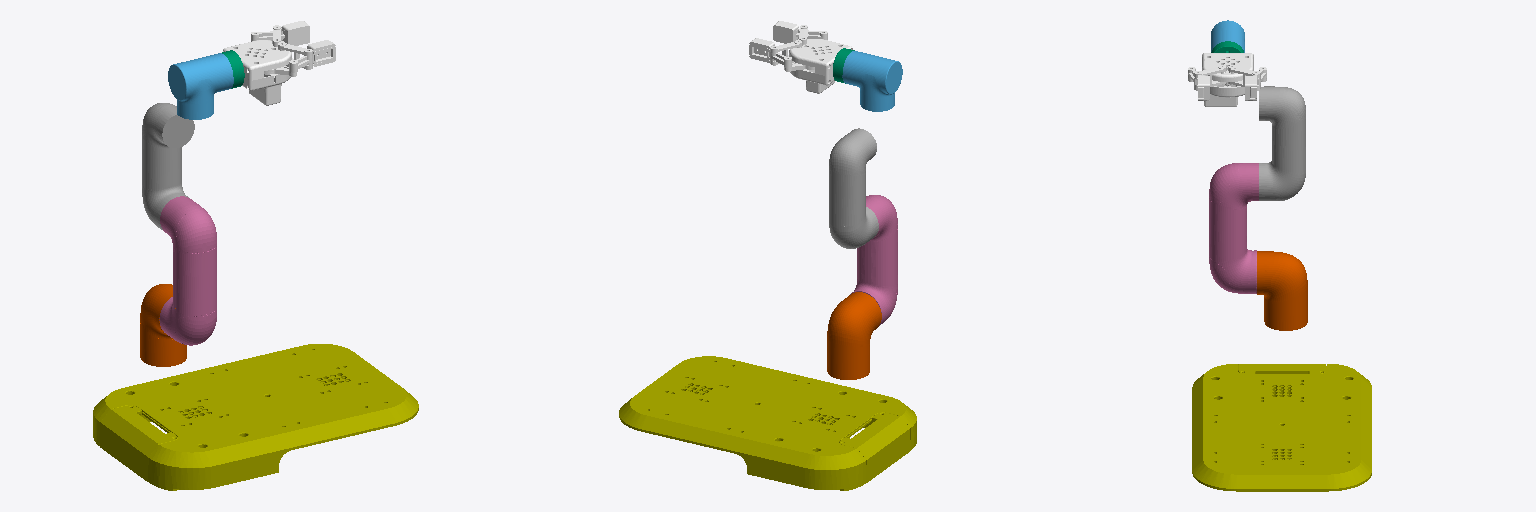
robot.urdf — mycomb1:
<?xml version='1.0' encoding='utf-8'?>
<robot name="mycomb1">
  <link name="base_link">
    <inertial>
      <mass value="0.001" />
      <origin rpy="0 0 0" xyz="0 0 0" />
      <inertia ixx="0.000001" ixy="0" ixz="0" iyy="0.000001" iyz="0" izz="0.000001" />
    </inertial>
  </link>
  <joint name="dummy_joint_copy" type="fixed">
    <origin xyz="0.0 0.0 0.0" rpy="0 0 0" />
    <parent link="base_link" />
    <child link="base_footprint_copy" />
    <axis xyz="0 0 1" />
  </joint>
  <link name="base_footprint_copy">
    <!-- placeholder inertial added by normalize_urdf.py - replace with CAD values -->
    <!-- myAGV placeholder: 1.8 kg like robots/myagv, box inertia for 0.31 x 0.23 x 0.15 m -->
    <inertial>
      <origin xyz="0 0 0" rpy="0 0 0" />
      <mass value="1.8" />
      <inertia ixx="0.0113" ixy="0" ixz="0" iyy="0.0178" iyz="0" izz="0.0224" />
    </inertial>
    <visual>
      <geometry>
        <mesh filename="../../../myagv/meshes/myagv_base.dae" scale="1 1 1" />
      </geometry>
      <origin xyz="0.0 0.0 0.0" rpy="0.0 0.0 0.0" />
      <material name="black">
        <color rgba="0.7 0.7 0.0 1.0" />
      </material>
    </visual>
    <collision>
      <origin xyz="0.0 0.0 0.0" rpy="0.0 0.0 0.0" />
      <geometry>
        <mesh filename="../../../myagv/meshes/myagv_base.dae" scale="1 1 1" />
      </geometry>
    </collision>
  </link>
  <joint name="base_joint_copy" type="fixed">
    <origin xyz="0.0 0.0 0.0" rpy="0 0 0" />
    <parent link="base_footprint_copy" />
    <child link="base_up_copy" />
    <axis xyz="0 0 1" />
  </joint>
  <link name="base_up_copy">
    <!-- placeholder inertial added by normalize_urdf.py - replace with CAD values -->
    <!-- myAGV placeholder: 1.8 kg like robots/myagv, box inertia for 0.31 x 0.23 x 0.15 m -->
    <inertial>
      <origin xyz="0 0 0" rpy="0 0 0" />
      <mass value="1.8" />
      <inertia ixx="0.0113" ixy="0" ixz="0" iyy="0.0178" iyz="0" izz="0.0224" />
    </inertial>
    <visual>
      <geometry>
        <mesh filename="../../../myagv/meshes/myagv_up.dae" scale="1 1 1" />
      </geometry>
      <origin xyz="0.0 0.0 0.0" rpy="0.0 0.0 0.0" />
      <material name="black">
        <color rgba="0.7 0.7 0.0 1.0" />
      </material>
    </visual>
    <collision>
      <origin xyz="0.0 0.0 0.0" rpy="0.0 0.0 0.0" />
      <geometry>
        <mesh filename="../../../myagv/meshes/myagv_up.dae" scale="1 1 1" />
      </geometry>
    </collision>
  </link>
  <joint name="base_to_g_base_copy" type="fixed">
    <axis xyz="0 0 0" />
    <limit effort="1000.0" lower="-3.14" upper="3.14159" velocity="0" />
    <parent link="base_up_copy" />
    <child link="g_base_copy" />
    <origin xyz="-0.1 0 0.13" rpy="0 0 0" />
  </joint>
  <link name="g_base_copy">
    <!-- placeholder inertial added by normalize_urdf.py - replace with CAD values -->
    <inertial>
      <origin xyz="0 0 0" rpy="0 0 0" />
      <mass value="0.1" />
      <inertia ixx="3.600e-05" ixy="0" ixz="0" iyy="3.600e-05" iyz="0" izz="3.600e-05" />
    </inertial>
    <visual>
      <geometry>
        <mesh filename="../../../mycobot_280_pi/meshes/G_base.dae" />
      </geometry>
      <origin xyz="0.0 0 -0.03" rpy="0 0 1.5708" />
    </visual>
    <collision>
      <geometry>
        <mesh filename="../../../mycobot_280_pi/meshes/G_base.dae" />
      </geometry>
      <origin xyz="0.0 0 -0.03" rpy="0 0 1.5708" />
    </collision>
  </link>
  <link name="joint1_copy">
    <!-- placeholder inertial added by normalize_urdf.py - replace with CAD values -->
    <inertial>
      <origin xyz="0 0 0" rpy="0 0 0" />
      <mass value="0.1" />
      <inertia ixx="3.600e-05" ixy="0" ixz="0" iyy="3.600e-05" iyz="0" izz="3.600e-05" />
    </inertial>
    <visual>
      <geometry>
        <!--- 0.0 0 -0.04  1.5708 3.14159-->
        <mesh filename="../../../mycobot_280_pi/meshes/joint1_pi.dae" />
      </geometry>
      <origin xyz="0.0 0 0 " rpy=" 0 0 -1.5708" />
    </visual>
    <collision>
      <geometry>
        <!--- 0.0 0 -0.04  1.5708 3.14159-->
        <mesh filename="../../../mycobot_280_pi/meshes/joint1_pi.dae" />
      </geometry>
      <origin xyz="0.0 0 0 " rpy=" 0 0 -1.5708" />
    </collision>
  </link>
  <link name="joint2_copy">
    <!-- placeholder inertial added by normalize_urdf.py - replace with CAD values -->
    <inertial>
      <origin xyz="0 0 0" rpy="0 0 0" />
      <mass value="0.1" />
      <inertia ixx="3.600e-05" ixy="0" ixz="0" iyy="3.600e-05" iyz="0" izz="3.600e-05" />
    </inertial>
    <visual>
      <geometry>
        <mesh filename="../../../mycobot_280_pi/meshes/joint2.dae" />
      </geometry>
      <origin xyz="0.0 0 -0.06096 " rpy=" 0 0 -1.5708" />
    </visual>
    <collision>
      <geometry>
        <mesh filename="../../../mycobot_280_pi/meshes/joint2.dae" />
      </geometry>
      <origin xyz="0.0 0 -0.06096 " rpy=" 0 0 -1.5708" />
    </collision>
  </link>
  <link name="joint3_copy">
    <!-- placeholder inertial added by normalize_urdf.py - replace with CAD values -->
    <inertial>
      <origin xyz="0 0 0" rpy="0 0 0" />
      <mass value="0.1" />
      <inertia ixx="3.600e-05" ixy="0" ixz="0" iyy="3.600e-05" iyz="0" izz="3.600e-05" />
    </inertial>
    <visual>
      <geometry>
        <mesh filename="../../../mycobot_280_pi/meshes/joint3.dae" />
      </geometry>
      <origin xyz="0.0 0 0.03256 " rpy=" 0 -1.5708 0" />
    </visual>
    <collision>
      <geometry>
        <mesh filename="../../../mycobot_280_pi/meshes/joint3.dae" />
      </geometry>
      <origin xyz="0.0 0 0.03256 " rpy=" 0 -1.5708 0" />
    </collision>
  </link>
  <link name="joint4_copy">
    <!-- placeholder inertial added by normalize_urdf.py - replace with CAD values -->
    <inertial>
      <origin xyz="0 0 0" rpy="0 0 0" />
      <mass value="0.1" />
      <inertia ixx="3.600e-05" ixy="0" ixz="0" iyy="3.600e-05" iyz="0" izz="3.600e-05" />
    </inertial>
    <visual>
      <geometry>
        <!--- 0.0 0 -0.04 -->
        <mesh filename="../../../mycobot_280_pi/meshes/joint4.dae" />
      </geometry>
      <origin xyz="0.0 0 0.03056 " rpy=" 0 -1.5708 0" />
    </visual>
    <collision>
      <geometry>
        <!--- 0.0 0 -0.04 -->
        <mesh filename="../../../mycobot_280_pi/meshes/joint4.dae" />
      </geometry>
      <origin xyz="0.0 0 0.03056 " rpy=" 0 -1.5708 0" />
    </collision>
  </link>
  <link name="joint5_copy">
    <!-- placeholder inertial added by normalize_urdf.py - replace with CAD values -->
    <inertial>
      <origin xyz="0 0 0" rpy="0 0 0" />
      <mass value="0.1" />
      <inertia ixx="3.600e-05" ixy="0" ixz="0" iyy="3.600e-05" iyz="0" izz="3.600e-05" />
    </inertial>
    <visual>
      <geometry>
        <!--- 0.0 0 -0.04 -->
        <mesh filename="../../../mycobot_280_pi/meshes/joint5.dae" />
      </geometry>
      <origin xyz="0.0 0 -0.03356 " rpy=" -1.5708 0 0" />
    </visual>
    <collision>
      <geometry>
        <!--- 0.0 0 -0.04 -->
        <mesh filename="../../../mycobot_280_pi/meshes/joint5.dae" />
      </geometry>
      <origin xyz="0.0 0 -0.03356 " rpy=" -1.5708 0 0" />
    </collision>
  </link>
  <link name="joint6_copy">
    <!-- placeholder inertial added by normalize_urdf.py - replace with CAD values -->
    <inertial>
      <origin xyz="0 0 0" rpy="0 0 0" />
      <mass value="0.1" />
      <inertia ixx="3.600e-05" ixy="0" ixz="0" iyy="3.600e-05" iyz="0" izz="3.600e-05" />
    </inertial>
    <visual>
      <geometry>
        <!--- 0.0 0 -0.04 -->
        <mesh filename="../../../mycobot_280_pi/meshes/joint6.dae" />
      </geometry>
      <origin xyz="0 0.00 -0.038 " rpy=" 0 0 0" />
    </visual>
    <collision>
      <geometry>
        <!--- 0.0 0 -0.04 -->
        <mesh filename="../../../mycobot_280_pi/meshes/joint6.dae" />
      </geometry>
      <origin xyz="0 0.00 -0.038 " rpy=" 0 0 0" />
    </collision>
  </link>
  <link name="joint6_flange_copy">
    <!-- placeholder inertial added by normalize_urdf.py - replace with CAD values -->
    <inertial>
      <origin xyz="0 0 0" rpy="0 0 0" />
      <mass value="0.1" />
      <inertia ixx="3.600e-05" ixy="0" ixz="0" iyy="3.600e-05" iyz="0" izz="3.600e-05" />
    </inertial>
    <visual>
      <geometry>
        <!--- 0.0 0 -0.04 -->
        <mesh filename="../../../mycobot_280_pi/meshes/joint7.dae" />
      </geometry>
      <origin xyz="0.0 0 -0.012 " rpy=" 0 0 0" />
    </visual>
    <collision>
      <geometry>
        <!--- 0.0 0 -0.04 -->
        <mesh filename="../../../mycobot_280_pi/meshes/joint7.dae" />
      </geometry>
      <origin xyz="0.0 0 -0.012 " rpy=" 0 0 0" />
    </collision>
  </link>
  <link name="gripper_base_copy">
    <!-- placeholder inertial added by normalize_urdf.py - replace with CAD values -->
    <inertial>
      <origin xyz="0 0 0" rpy="0 0 0" />
      <mass value="0.1" />
      <inertia ixx="3.600e-05" ixy="0" ixz="0" iyy="3.600e-05" iyz="0" izz="3.600e-05" />
    </inertial>
    <visual>
      <geometry>
        <mesh filename="../../../mycobot_280_pi/meshes/gripper_base.dae" />
      </geometry>
      <origin xyz="0.0 0.0077 -0.012" rpy=" 0 0 0" />
    </visual>
    <collision>
      <geometry>
        <mesh filename="../../../mycobot_280_pi/meshes/gripper_base.dae" />
      </geometry>
      <origin xyz="0.0 0.0077 -0.012 " rpy=" 0 0 0" />
    </collision>
  </link>
  <link name="gripper_left1_copy">
    <!-- placeholder inertial added by normalize_urdf.py - replace with CAD values -->
    <inertial>
      <origin xyz="0 0 0" rpy="0 0 0" />
      <mass value="0.1" />
      <inertia ixx="3.600e-05" ixy="0" ixz="0" iyy="3.600e-05" iyz="0" izz="3.600e-05" />
    </inertial>
    <visual>
      <geometry>
        <!--- 0.0 0 -0.04 -->
        <mesh filename="../../../mycobot_280_pi/meshes/gripper_left1.dae" />
      </geometry>
      <origin xyz="0.039 -0.0133 -0.012 " rpy=" 0 0 0" />
      <!-- <origin xyz = "0.0 0 -0.012 " rpy = " 0 0 0"/> -->
    </visual>
    <!-- collision origin aligned with visual (was copy-pasted from the mirrored link) -->
    <collision>
      <geometry>
        <mesh filename="../../../mycobot_280_pi/meshes/gripper_left1.dae" />
      </geometry>
      <origin xyz="0.039 -0.0133 -0.012 " rpy=" 0 0 0" />
    </collision>
  </link>
  <link name="gripper_left2_copy">
    <!-- placeholder inertial added by normalize_urdf.py - replace with CAD values -->
    <inertial>
      <origin xyz="0 0 0" rpy="0 0 0" />
      <mass value="0.1" />
      <inertia ixx="3.600e-05" ixy="0" ixz="0" iyy="3.600e-05" iyz="0" izz="3.600e-05" />
    </inertial>
    <visual>
      <geometry>
        <mesh filename="../../../mycobot_280_pi/meshes/gripper_left2.dae" />
      </geometry>
      <origin xyz="0.005 -0.0195 -0.012 " rpy=" 0 0 0" />
    </visual>
    <!-- collision origin aligned with visual (was copy-pasted from the mirrored link) -->
    <collision>
      <geometry>
        <mesh filename="../../../mycobot_280_pi/meshes/gripper_left2.dae" />
      </geometry>
      <origin xyz="0.005 -0.0195 -0.012 " rpy=" 0 0 0" />
    </collision>
  </link>
  <link name="gripper_left3_copy">
    <!-- placeholder inertial added by normalize_urdf.py - replace with CAD values -->
    <inertial>
      <origin xyz="0 0 0" rpy="0 0 0" />
      <mass value="0.1" />
      <inertia ixx="3.600e-05" ixy="0" ixz="0" iyy="3.600e-05" iyz="0" izz="3.600e-05" />
    </inertial>
    <visual>
      <geometry>
        <mesh filename="../../../mycobot_280_pi/meshes/gripper_left3.dae" />
      </geometry>
      <origin xyz="0.012 0.0025 -0.012 " rpy=" 0 0 0" />
      <!-- <origin xyz = "0.0 0 0 " rpy = " 0 0 0"/> -->
    </visual>
    <collision>
      <geometry>
        <mesh filename="../../../mycobot_280_pi/meshes/gripper_left3.dae" />
      </geometry>
      <origin xyz="0.012 0.0025 -0.012" rpy=" 0 0 0" />
    </collision>
  </link>
  <link name="gripper_right1_copy">
    <!-- placeholder inertial added by normalize_urdf.py - replace with CAD values -->
    <inertial>
      <origin xyz="0 0 0" rpy="0 0 0" />
      <mass value="0.1" />
      <inertia ixx="3.600e-05" ixy="0" ixz="0" iyy="3.600e-05" iyz="0" izz="3.600e-05" />
    </inertial>
    <visual>
      <geometry>
        <mesh filename="../../../mycobot_280_pi/meshes/gripper_right1.dae" />
      </geometry>
      <origin xyz="-0.039 -0.0133 -0.012 " rpy=" 0 0 0" />
    </visual>
    <collision>
      <geometry>
        <mesh filename="../../../mycobot_280_pi/meshes/gripper_right1.dae" />
      </geometry>
      <origin xyz="-0.039 -0.0133 -0.012 " rpy=" 0 0 0" />
    </collision>
  </link>
  <link name="gripper_right2_copy">
    <!-- placeholder inertial added by normalize_urdf.py - replace with CAD values -->
    <inertial>
      <origin xyz="0 0 0" rpy="0 0 0" />
      <mass value="0.1" />
      <inertia ixx="3.600e-05" ixy="0" ixz="0" iyy="3.600e-05" iyz="0" izz="3.600e-05" />
    </inertial>
    <visual>
      <geometry>
        <mesh filename="../../../mycobot_280_pi/meshes/gripper_right2.dae" />
      </geometry>
      <origin xyz="-0.005 -0.0195 -0.012 " rpy=" 0 0 0" />
    </visual>
    <collision>
      <geometry>
        <mesh filename="../../../mycobot_280_pi/meshes/gripper_right2.dae" />
      </geometry>
      <origin xyz="-0.005 -0.0195 -0.012 " rpy=" 0 0 0" />
    </collision>
  </link>
  <link name="gripper_right3_copy">
    <!-- placeholder inertial added by normalize_urdf.py - replace with CAD values -->
    <inertial>
      <origin xyz="0 0 0" rpy="0 0 0" />
      <mass value="0.1" />
      <inertia ixx="3.600e-05" ixy="0" ixz="0" iyy="3.600e-05" iyz="0" izz="3.600e-05" />
    </inertial>
    <visual>
      <geometry>
        <mesh filename="../../../mycobot_280_pi/meshes/gripper_right3.dae" />
      </geometry>
      <origin xyz="-0.012 0.0025 -0.012 " rpy=" 0 0 0" />
    </visual>
    <collision>
      <geometry>
        <mesh filename="../../../mycobot_280_pi/meshes/gripper_right3.dae" />
      </geometry>
      <origin xyz="-0.012 0.0025 -0.012" rpy=" 0 0 0" />
    </collision>
  </link>
  <joint name="g_base_to_joint1_copy" type="fixed">
    <axis xyz="0 0 0" />
    <limit effort="1000.0" lower="-6.2831853" upper="6.2831853" velocity="0" />
    <parent link="g_base_copy" />
    <child link="joint1_copy" />
    <origin xyz="0 0 0" rpy="0 0 0" />
  </joint>
  <joint name="joint2_to_joint1_copy" type="revolute">
    <axis xyz="0 0 1" />
    <limit effort="1000.0" lower="-6.2831853" upper="6.2831853" velocity="2" />
    <parent link="joint1_copy" />
    <child link="joint2_copy" />
    <origin xyz="0 0 0.13156" rpy="0 0 0" />
  </joint>
  <joint name="joint3_to_joint2_copy" type="revolute">
    <axis xyz="0 0 1" />
    <limit effort="1000.0" lower="-6.2831853" upper="6.2831853" velocity="2" />
    <parent link="joint2_copy" />
    <child link="joint3_copy" />
    <origin xyz="0 0  0" rpy="0 1.5708 -1.5708" />
  </joint>
  <joint name="joint4_to_joint3_copy" type="revolute">
    <axis xyz=" 0 0 1" />
    <limit effort="1000.0" lower="-6.2831853" upper="6.2831853" velocity="2" />
    <parent link="joint3_copy" />
    <child link="joint4_copy" />
    <origin xyz="  -0.1104 0 0   " rpy="0 0 0" />
  </joint>
  <joint name="joint5_to_joint4_copy" type="revolute">
    <axis xyz=" 0 0 1" />
    <limit effort="1000.0" lower="-6.2831853" upper="6.2831853" velocity="2" />
    <parent link="joint4_copy" />
    <child link="joint5_copy" />
    <origin xyz="-0.096 0 0.06462" rpy="0 0 -1.5708" />
  </joint>
  <joint name="joint6_to_joint5_copy" type="revolute">
    <axis xyz="0 0 1" />
    <limit effort="1000.0" lower="-6.2831853" upper="6.2831853" velocity="2" />
    <parent link="joint5_copy" />
    <child link="joint6_copy" />
    <origin xyz="0 -0.07318 0" rpy="1.5708 -1.5708 0" />
  </joint>
  <joint name="joint6output_to_joint6_copy" type="revolute">
    <axis xyz="0 0 1" />
    <limit effort="1000.0" lower="-6.2831853" upper="6.2831853" velocity="2" />
    <parent link="joint6_copy" />
    <child link="joint6_flange_copy" />
    <origin xyz="0 0.0456 0" rpy="-1.5708 0 0" />
  </joint>
  <joint name="joint6output_to_gripper_base_copy" type="fixed">
    <!-- <axis xyz="0 0 1"/>
    <limit effort = "1000.0" lower = "-3.14" upper = "3.14159" velocity = "0"/> -->
    <parent link="joint6_flange_copy" />
    <child link="gripper_base_copy" />
    <origin xyz="0 0 0.0268" rpy="1.5708 0 3.14159" />
  </joint>
  <joint name="gripper_controller" type="revolute">
    <axis xyz="0 0 1" />
    <limit effort="1000.0" lower="-0.7" upper="0.15" velocity="2" />
    <parent link="gripper_base_copy" />
    <child link="gripper_left3_copy" />
    <origin xyz="-0.012 0.005 0" rpy="0 0 0" />
  </joint>
  <joint name="gripper_base_to_gripper_left2_copy" type="revolute">
    <axis xyz="0 0 1" />
    <limit effort="1000.0" lower="-0.8" upper="0.5" velocity="2" />
    <parent link="gripper_base_copy" />
    <child link="gripper_left2_copy" />
    <origin xyz="-0.005 0.027 0" rpy="0 0 0" />
    <mimic joint="gripper_controller" multiplier="1.0" offset="0" />
  </joint>
  <joint name="gripper_left3_to_gripper_left1_copy" type="revolute">
    <axis xyz="0 0 1" />
    <limit effort="1000.0" lower="-0.5" upper="0.5" velocity="2" />
    <parent link="gripper_left3_copy" />
    <child link="gripper_left1_copy" />
    <origin xyz="-0.027 0.016 0" rpy="0 0 0" />
    <mimic joint="gripper_controller" multiplier="-1.0" offset="0" />
  </joint>
  <joint name="gripper_base_to_gripper_right3_copy" type="revolute">
    <axis xyz="0 0 1" />
    <limit effort="1000.0" lower="-0.15" upper="0.7" velocity="2" />
    <parent link="gripper_base_copy" />
    <child link="gripper_right3_copy" />
    <origin xyz="0.012 0.005 0" rpy="0 0 0" />
    <mimic joint="gripper_controller" multiplier="-1.0" offset="0" />
  </joint>
  <joint name="gripper_base_to_gripper_right2_copy" type="revolute">
    <axis xyz="0 0 1" />
    <limit effort="1000.0" lower="-0.5" upper="0.8" velocity="2" />
    <parent link="gripper_base_copy" />
    <child link="gripper_right2_copy" />
    <origin xyz="0.005 0.027 0" rpy="0 0 0" />
    <mimic joint="gripper_controller" multiplier="-1.0" offset="0" />
  </joint>
  <joint name="gripper_right3_to_gripper_right1_copy" type="revolute">
    <axis xyz="0 0 1" />
    <limit effort="1000.0" lower="-0.5" upper="0.5" velocity="2" />
    <parent link="gripper_right3_copy" />
    <child link="gripper_right1_copy" />
    <origin xyz="0.027 0.016 0" rpy="0 0 0" />
    <mimic joint="gripper_controller" multiplier="1.0" offset="0" />
  </joint>
</robot>

--- Facts derived from the render (not from the file) ---
3 views of the same robot in one strip: view 1: azimuth 30°, elevation 25°; view 2: azimuth 150°, elevation 25°; view 3: azimuth 270°, elevation 25° (orthographic).
Robot: mycomb1 — 18 links, 17 joints (12 revolute, 5 fixed); root link base_link; default pose: every joint at zero.
Links seen in each view (by area): view 1: base_up_copy, joint3_copy, joint4_copy, joint6_copy, gripper_base_copy, joint2_copy, gripper_left1_copy, gripper_right1_copy; view 2: base_up_copy, joint4_copy, joint2_copy, joint3_copy, joint6_copy, gripper_base_copy, gripper_right1_copy, gripper_left1_copy; view 3: base_up_copy, joint3_copy, joint4_copy, joint2_copy, gripper_base_copy, joint6_copy.
Boxes of the visible links, x1,y1,x2,y2 form: base_up_copy: [93, 344, 418, 490]; joint3_copy: [159, 196, 216, 345]; joint4_copy: [142, 103, 194, 229]; joint6_copy: [168, 53, 233, 119]; gripper_base_copy: [223, 40, 291, 105]; joint2_copy: [140, 284, 186, 366]; gripper_left1_copy: [289, 40, 335, 72]; gripper_right1_copy: [251, 21, 309, 45]; base_up_copy: [619, 356, 916, 490]; joint4_copy: [829, 128, 878, 248]; joint2_copy: [827, 292, 881, 379]; joint3_copy: [850, 195, 897, 325]; joint6_copy: [842, 51, 902, 111]; gripper_base_copy: [789, 39, 852, 93]; gripper_right1_copy: [749, 38, 791, 67]; gripper_left1_copy: [773, 21, 827, 43]; base_up_copy: [1192, 364, 1371, 491]; joint3_copy: [1209, 163, 1258, 293]; joint4_copy: [1259, 86, 1305, 200]; joint2_copy: [1257, 251, 1307, 330]; gripper_base_copy: [1202, 53, 1253, 106]; joint6_copy: [1211, 20, 1244, 52].
Bounding box of the posed robot: 0.3114 × 0.2051 × 0.469 m (x, y, z).
Meshes: 17 distinct files referenced, 13 mesh visuals loaded (13 Collada DAE); not drawn: 4 (reference not matched to a file when rendering).
